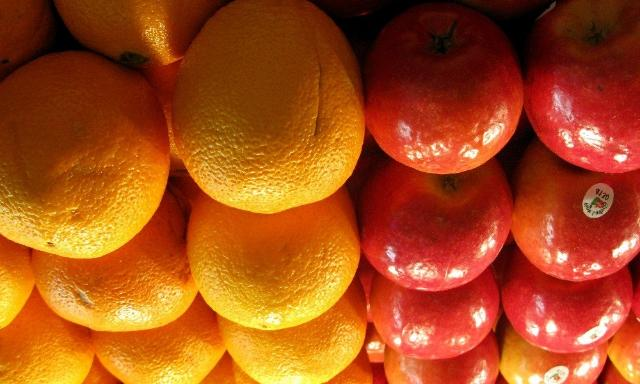Apples: (364, 10, 522, 174), (520, 1, 640, 174), (359, 162, 513, 292), (512, 157, 640, 281), (503, 258, 632, 354), (370, 269, 500, 359)
Oranges: (171, 0, 363, 216), (1, 54, 170, 260), (185, 188, 358, 332), (31, 200, 196, 334), (218, 288, 364, 384), (92, 308, 224, 384), (0, 304, 94, 384)
